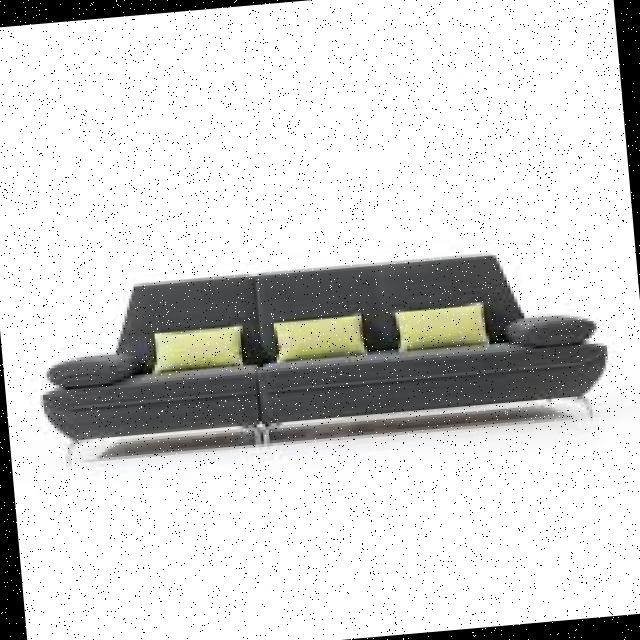Sofa: (20, 215, 634, 512)
